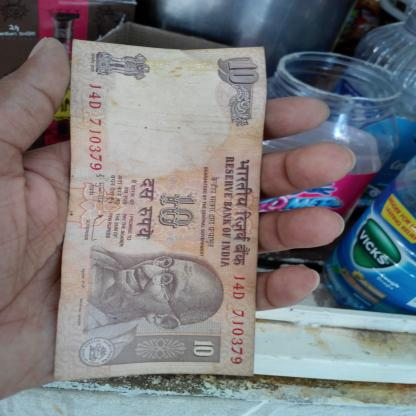Old10Front: (52, 38, 269, 377)
